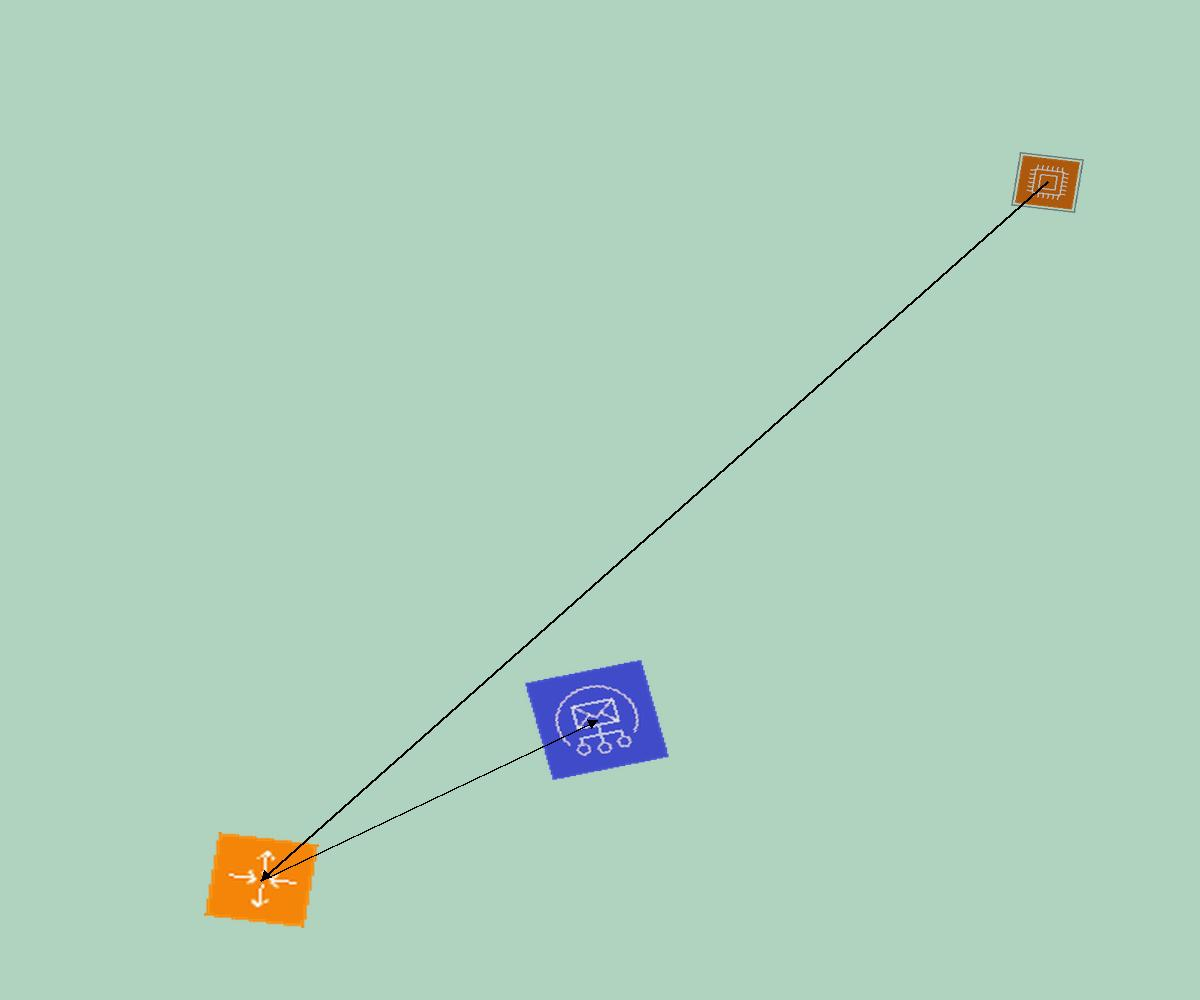AWS-Category_Compute: (1011, 152, 1084, 213)
AWS-Scaling-group: (204, 832, 319, 928)
AWS-Simple-Email-Service: (524, 659, 670, 781)
